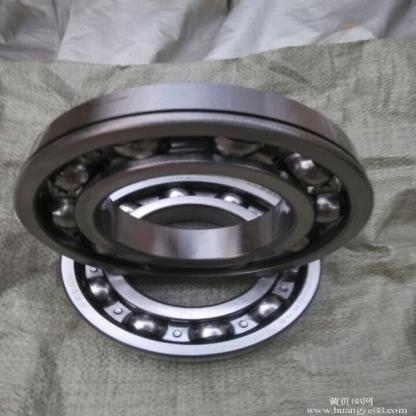FOD: (9, 79, 378, 276), (55, 171, 328, 365)
